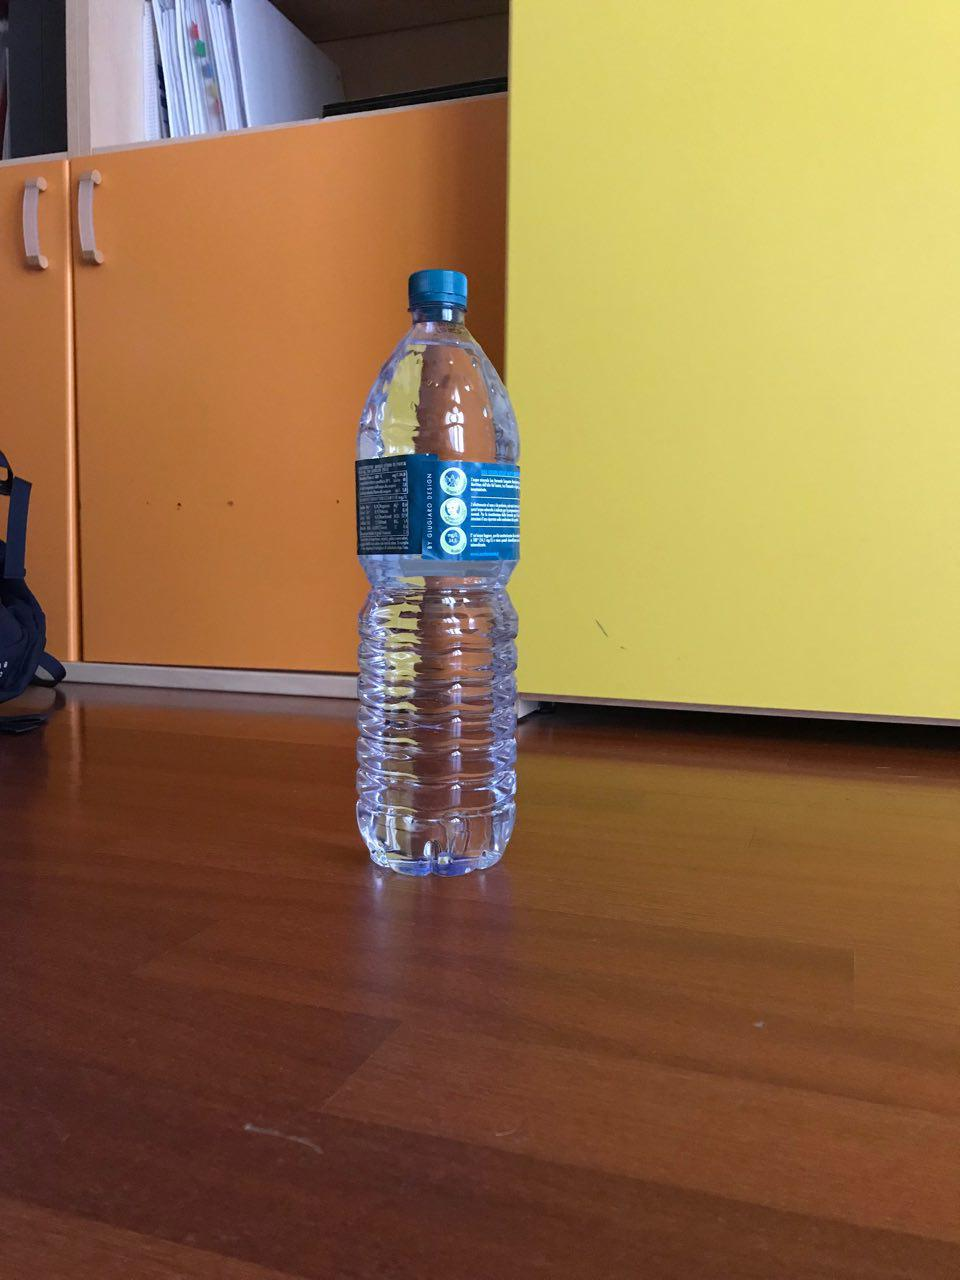san_bernardo: (353, 266, 524, 879)
